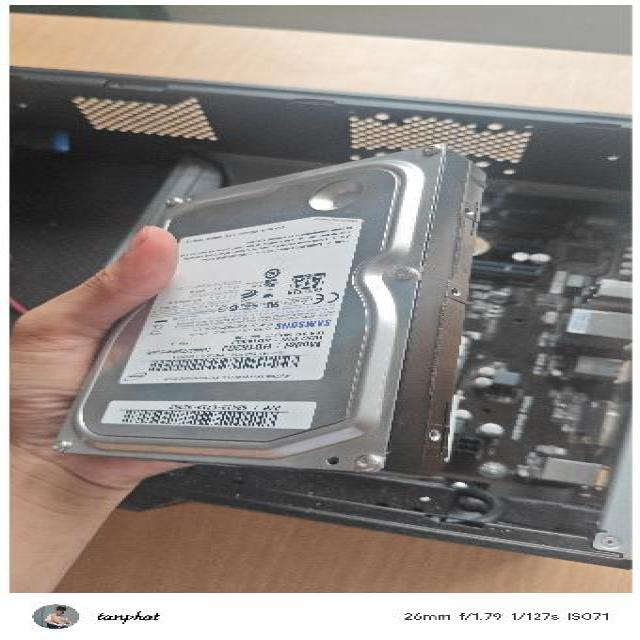DISK: (50, 139, 492, 479)
